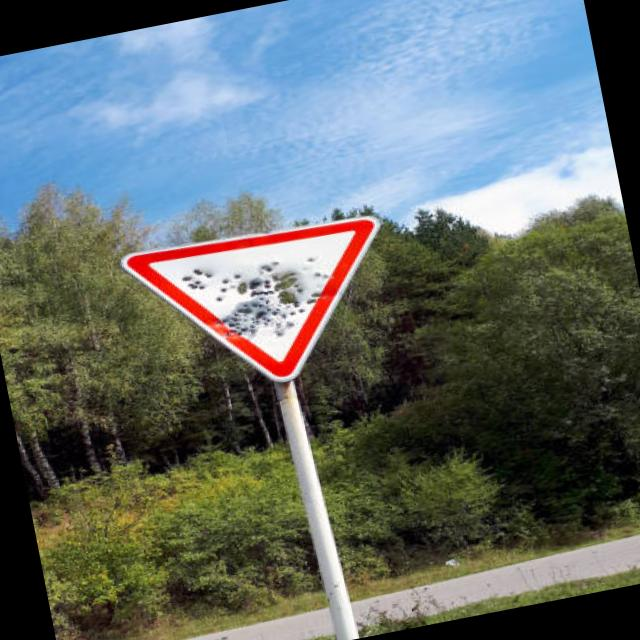give_way: (111, 188, 422, 410)
